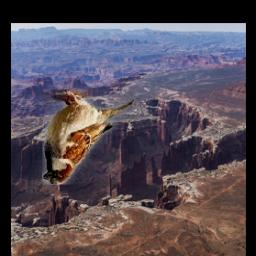Sparrow: (42, 90, 134, 186)
